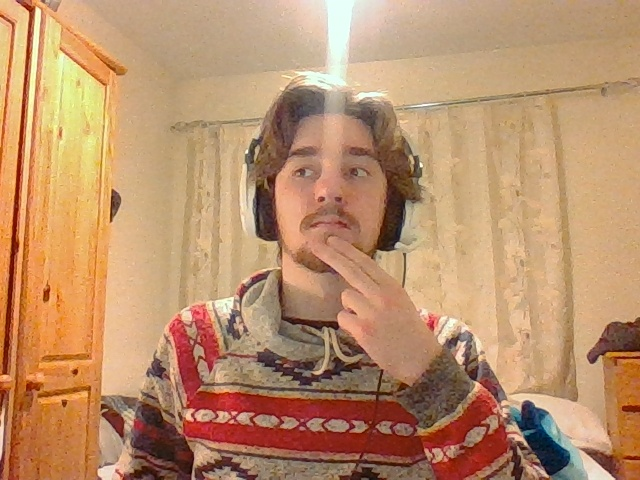afternoon: (304, 235, 437, 381)
